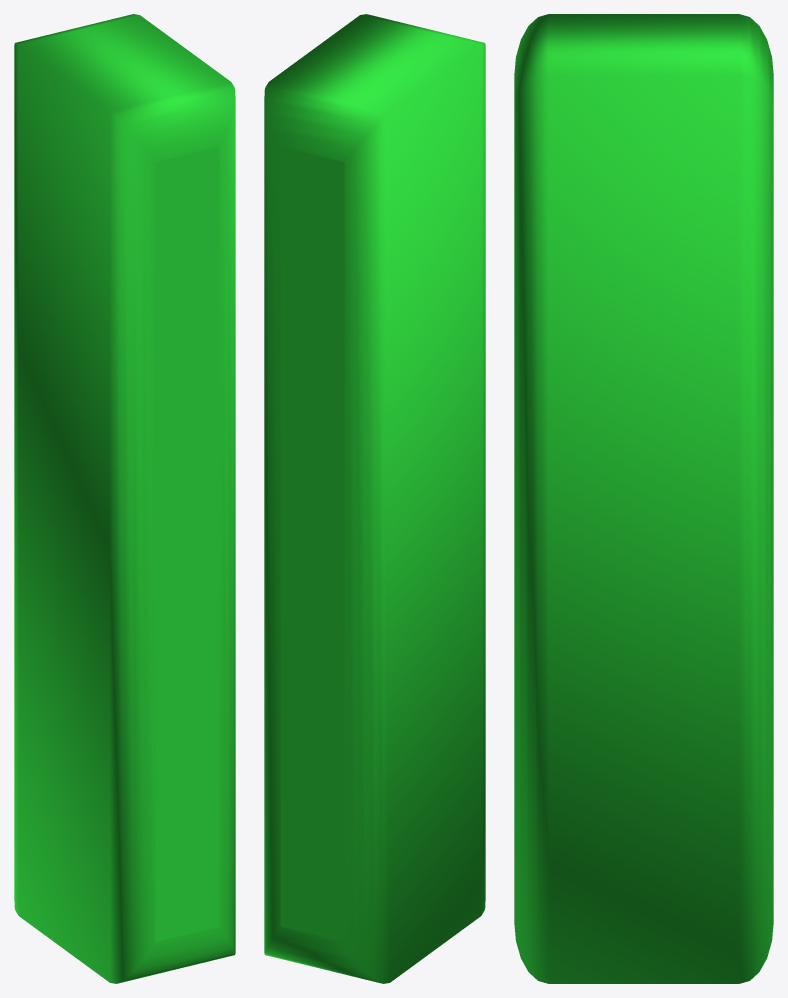
The model's file is LetterI.gltf.
3 views of the same model, side by side, from view 1: azimuth 30°, elevation 25°; view 2: azimuth 150°, elevation 25°; view 3: azimuth 270°, elevation 25° (orthographic). The views are drawn at different scales.
Visible parts, largest first — view 1: Text; view 2: Text; view 3: Text.
Part boxes in pixels (x1,y1,x2,y2): Text: (14,14,235,983); Text: (264,14,485,983); Text: (514,14,773,983).
Size of the model in its own units: 0.169 by 1.16 by 0.3.
